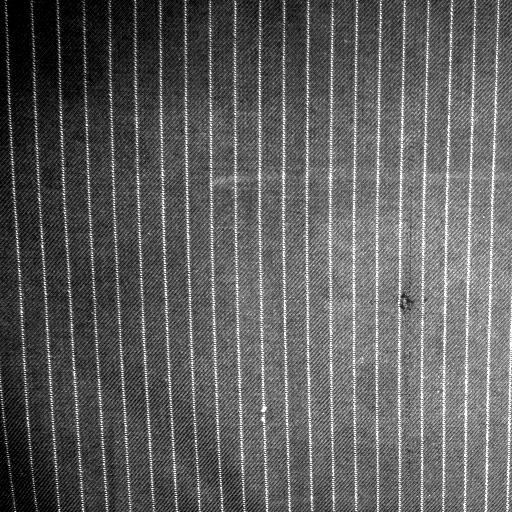fabric_hole: (395, 288, 419, 326)
